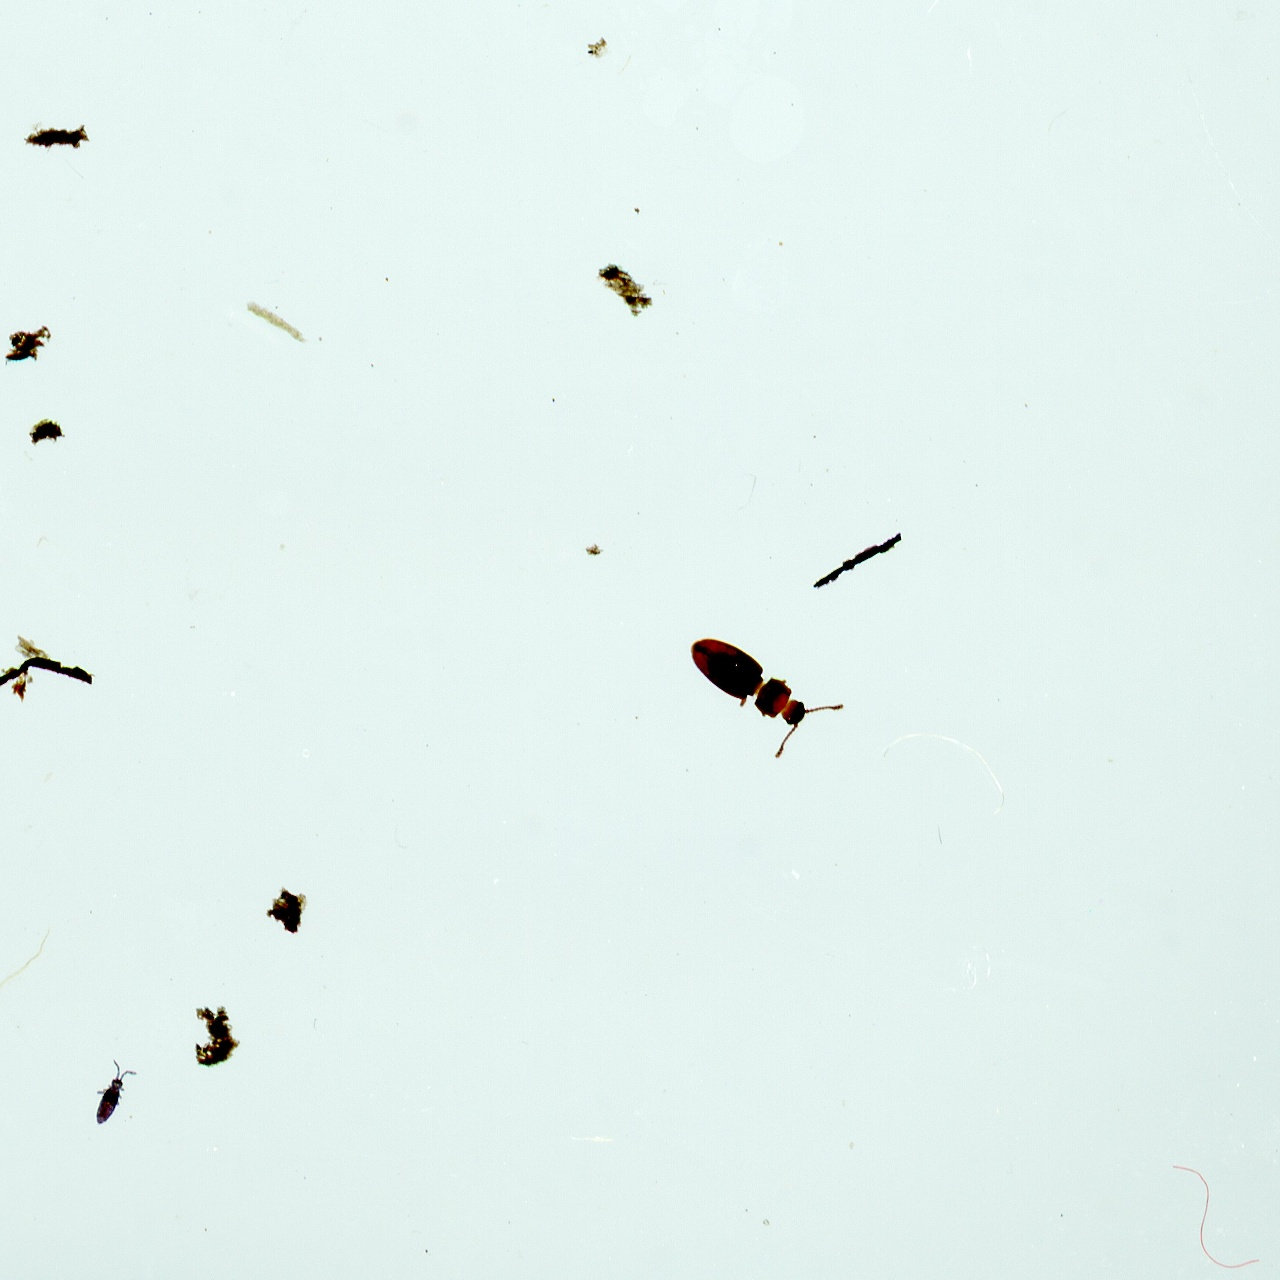arthropod: (670, 594, 851, 772), (84, 1054, 143, 1135)
